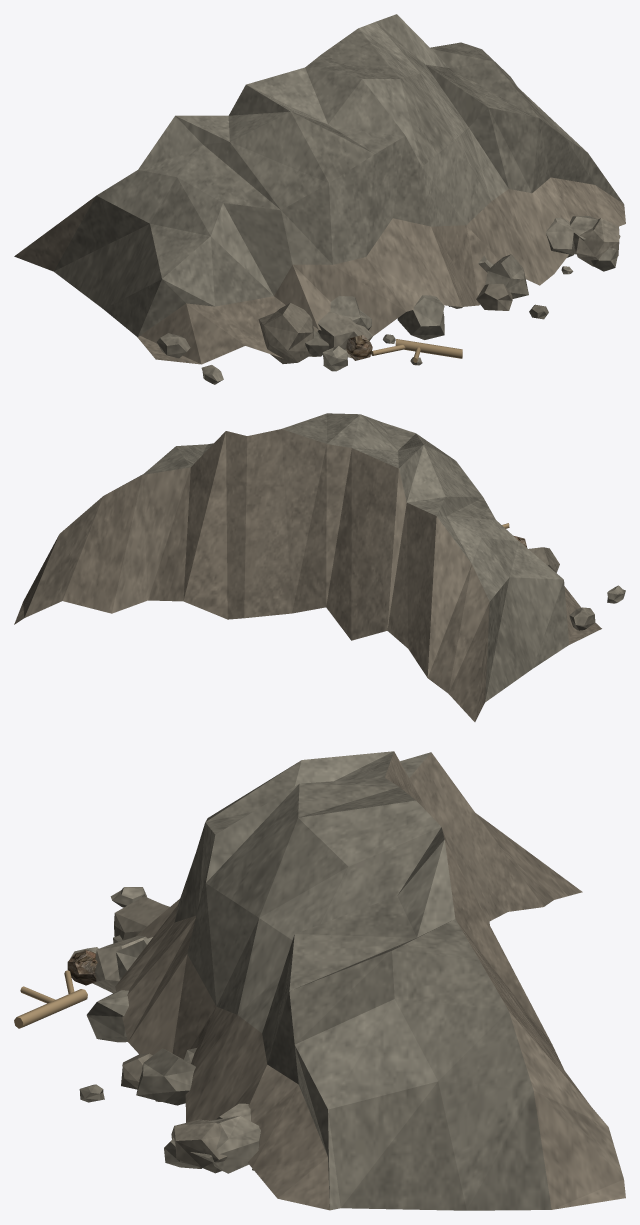
The model's file is bronzeOutcrop.glb.
3 views of the same model, one above another, from view 1: azimuth 30°, elevation 25°; view 2: azimuth 150°, elevation 25°; view 3: azimuth 270°, elevation 25° (orthographic). The views are drawn at different scales.
Visible parts, largest first — view 1: part_0, part_1, part_2; view 2: part_0; view 3: part_0, part_1, part_2.
Part boxes in pixels (bbox=[...]): part_0: bbox=[14, 14, 625, 384]; part_1: bbox=[371, 339, 462, 362]; part_2: bbox=[346, 335, 372, 360]; part_0: bbox=[14, 413, 625, 721]; part_0: bbox=[70, 751, 625, 1210]; part_1: bbox=[14, 970, 87, 1028]; part_2: bbox=[67, 949, 97, 985].
Size of the model in its own units: 2.65 by 1.06 by 2.15.
3 materials, 2 textured.
